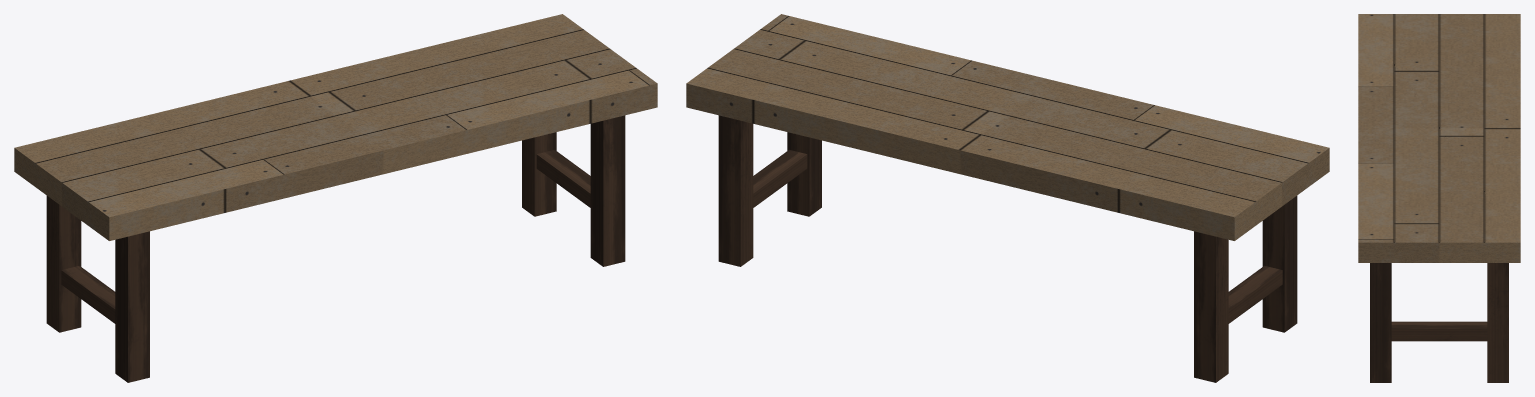
The model's file is HO_Prop_Bench.fbx.
3 views of the same model, side by side, from view 1: azimuth 30°, elevation 25°; view 2: azimuth 150°, elevation 25°; view 3: azimuth 270°, elevation 25° (orthographic). The views are drawn at different scales.
Visible parts, largest first — view 1: HO_Prop_Bench__Wood_Planks, HO_Prop_Bench__Timber_Dark; view 2: HO_Prop_Bench__Wood_Planks, HO_Prop_Bench__Timber_Dark; view 3: HO_Prop_Bench__Wood_Planks, HO_Prop_Bench__Timber_Dark.
Part boxes in pixels (<box>): HO_Prop_Bench__Wood_Planks: <box>14,14,657,240</box>; HO_Prop_Bench__Timber_Dark: <box>46,115,625,382</box>; HO_Prop_Bench__Wood_Planks: <box>686,14,1329,240</box>; HO_Prop_Bench__Timber_Dark: <box>718,115,1297,382</box>; HO_Prop_Bench__Wood_Planks: <box>1358,14,1520,262</box>; HO_Prop_Bench__Timber_Dark: <box>1370,263,1508,382</box>.
Bounding box in the file's own units: 6 × 1.85 × 1.8.
